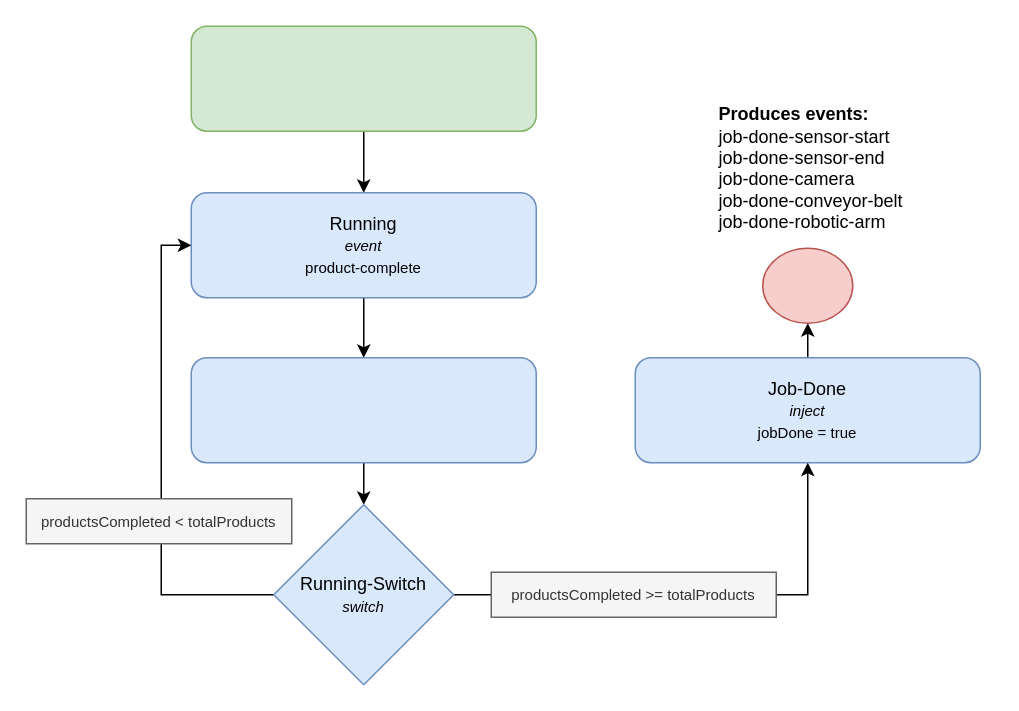
Some shapes in this 1019 by 711 pixel diagram are drawn without their labels. Here are the shapes that lost their labels. From the top down, the centre of each, then its label:
At point 363,78: "Starting inject productsCompleted = 0, jobDone = false".
At point 807,285: "END".
At point 363,409: "Running-Increment operation productsCompleted = productsCompleted + 1".
